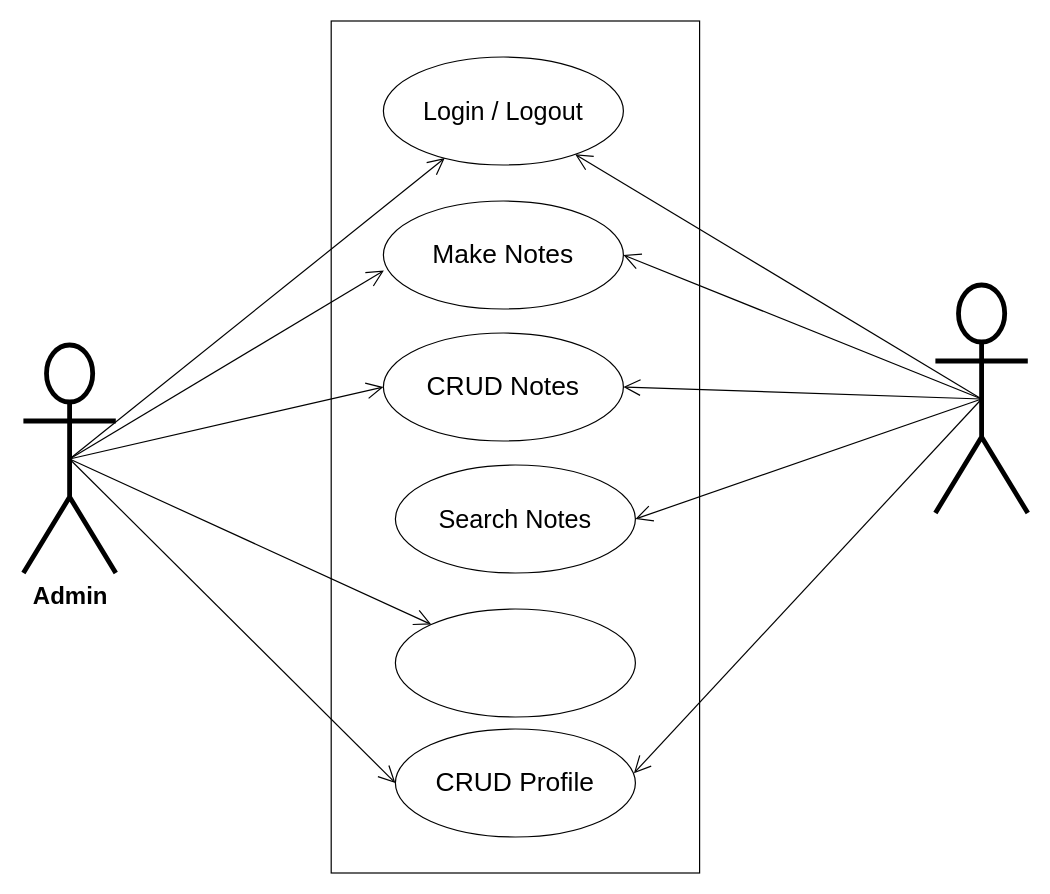
The diagram is 1050 pixels wide and 894 high, and some of its shapes have lost their labels. Each missing label, with the centre of its shape:
"CRUD Users" belongs at (x=514, y=662).
"Users" belongs at (x=981, y=398).
